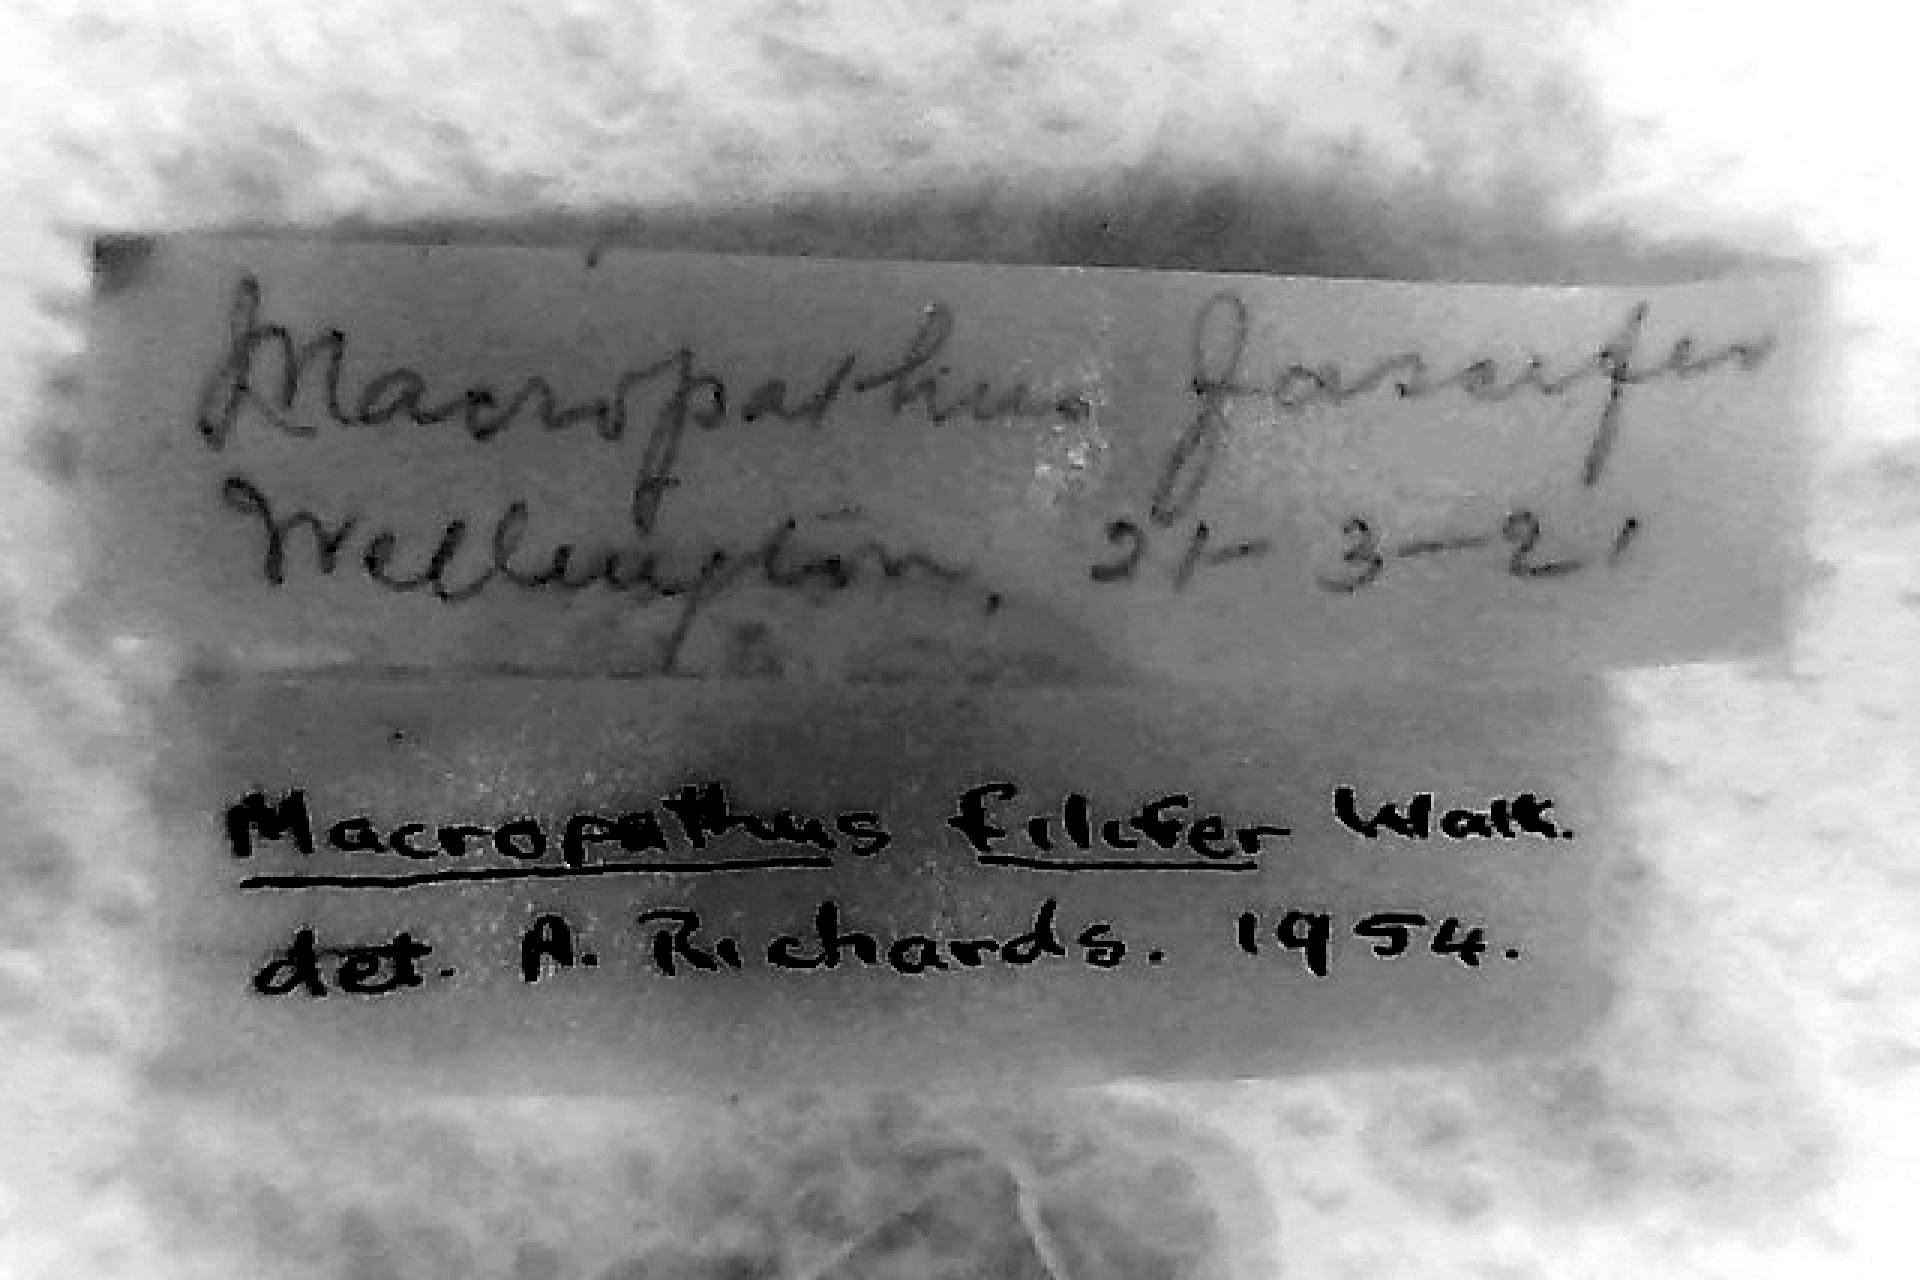hand_label: (82, 233, 1822, 678), (161, 680, 1601, 1090)
